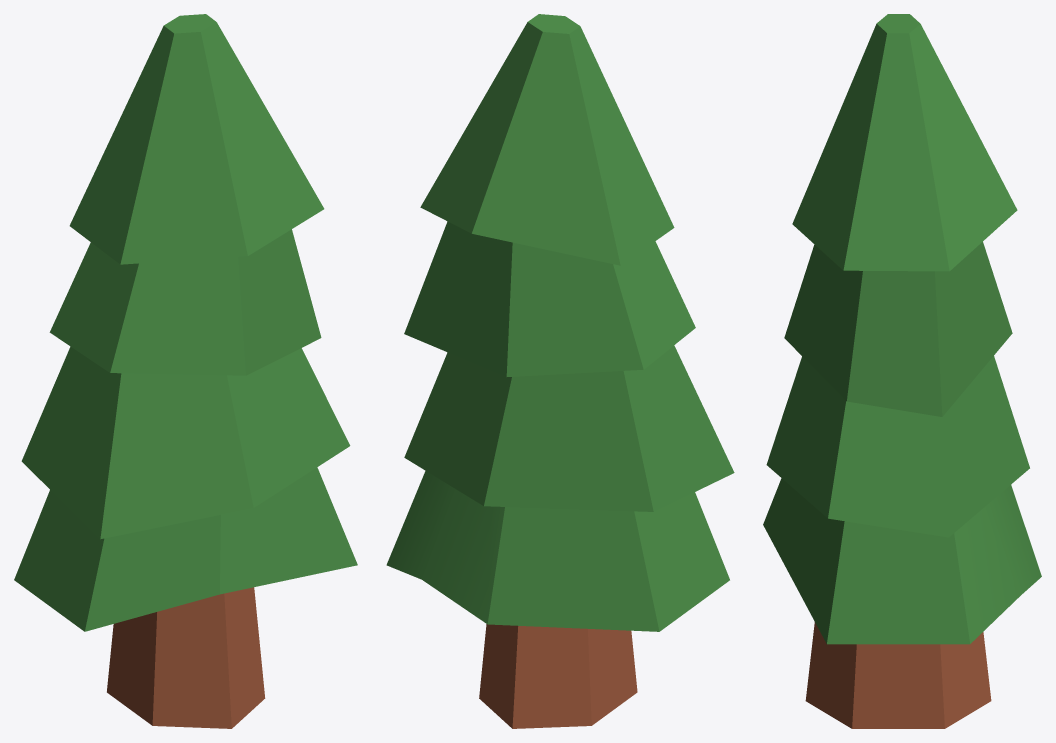
File: Tree3.fbx
3 views of the same model, side by side, from view 1: azimuth 30°, elevation 25°; view 2: azimuth 150°, elevation 25°; view 3: azimuth 270°, elevation 25° (orthographic).
Parts seen in each view (by area): view 1: Cylinder.001; view 2: Cylinder.001; view 3: Cylinder.001.
Boxes of the visible parts, x1,y1,x2,y2 form: Cylinder.001: (14, 14, 357, 728); Cylinder.001: (386, 14, 734, 728); Cylinder.001: (763, 14, 1041, 728).
Bounding box in the file's own units: 2.49 × 5.84 × 2.17.
